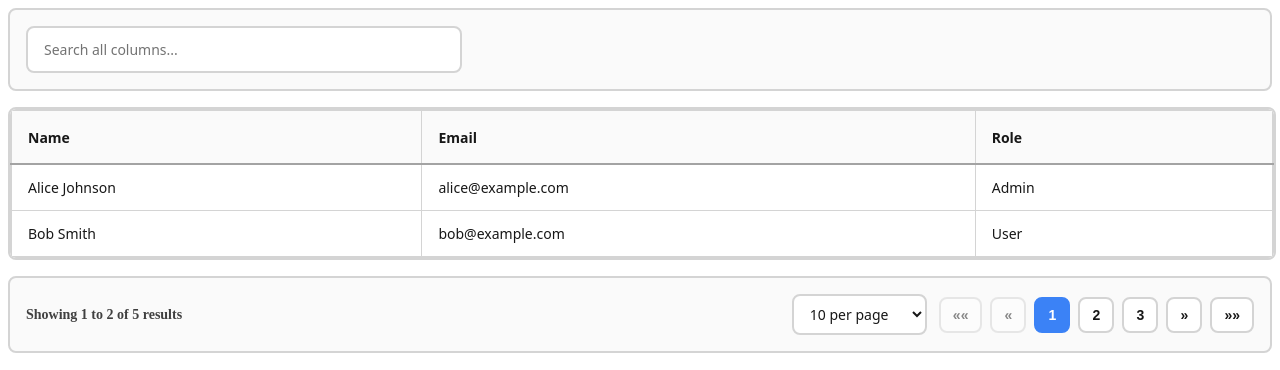
Test case: DataTable › Pagination › navigates to last page
The image size is (1280, 370).
Click the button named "Last page".
click(1232, 314)  # box [1210,296,1254,332]
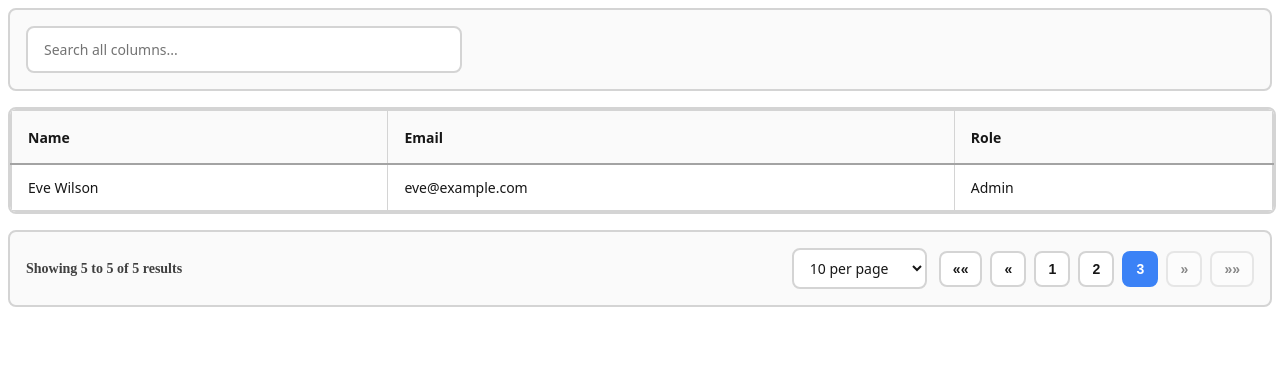
Check: the text "Eve Wilson" is shown, box [11,164,388,211]
